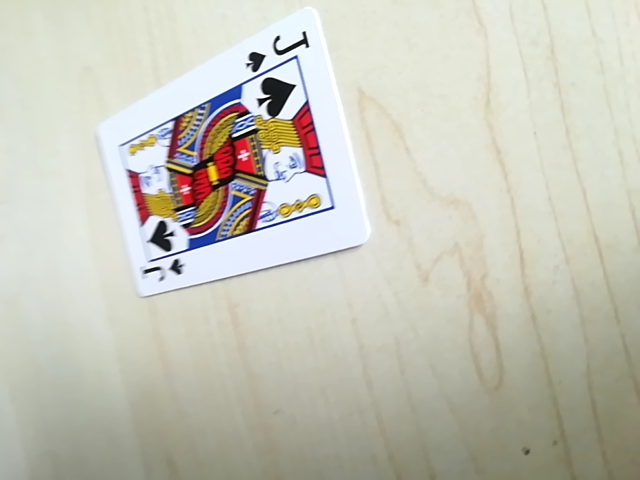ht j: (243, 22, 315, 73), (133, 232, 187, 291)
